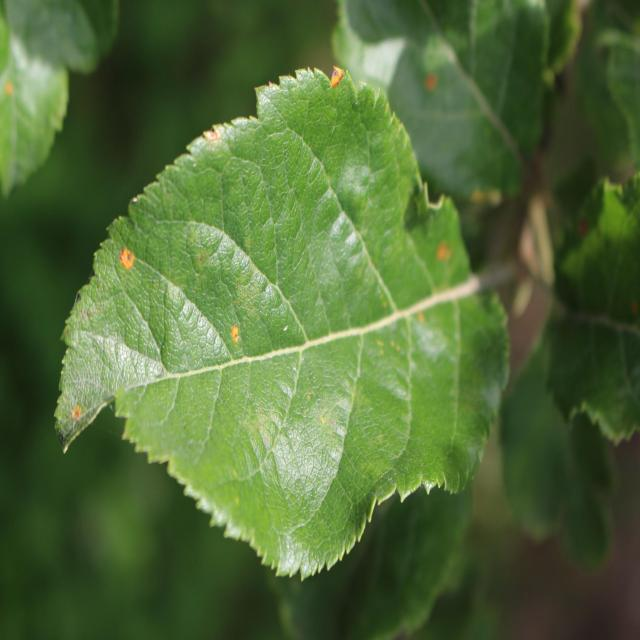rust: (54, 66, 511, 580)
